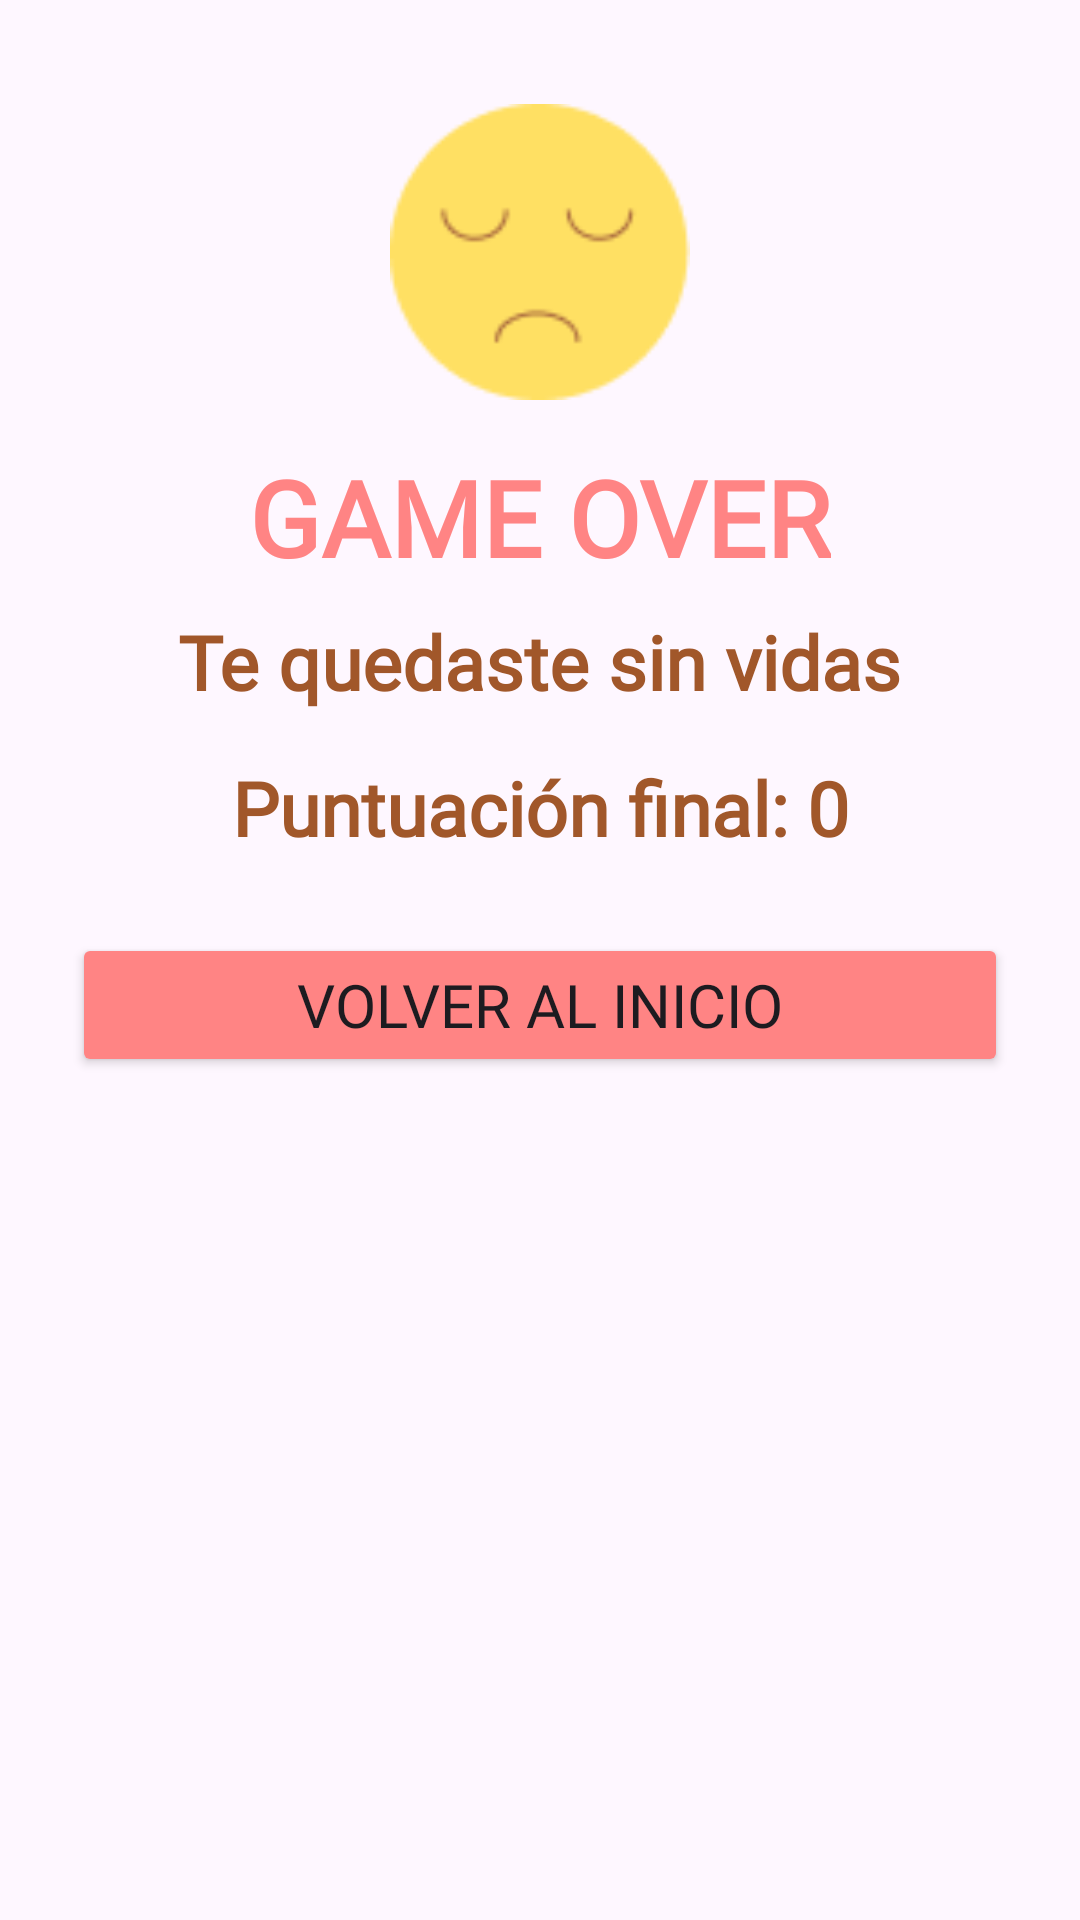

Where icons sit on this 1080*1920 app screen, as region(x1, y1, x2, y2):
carita: region(390, 104, 690, 400)
